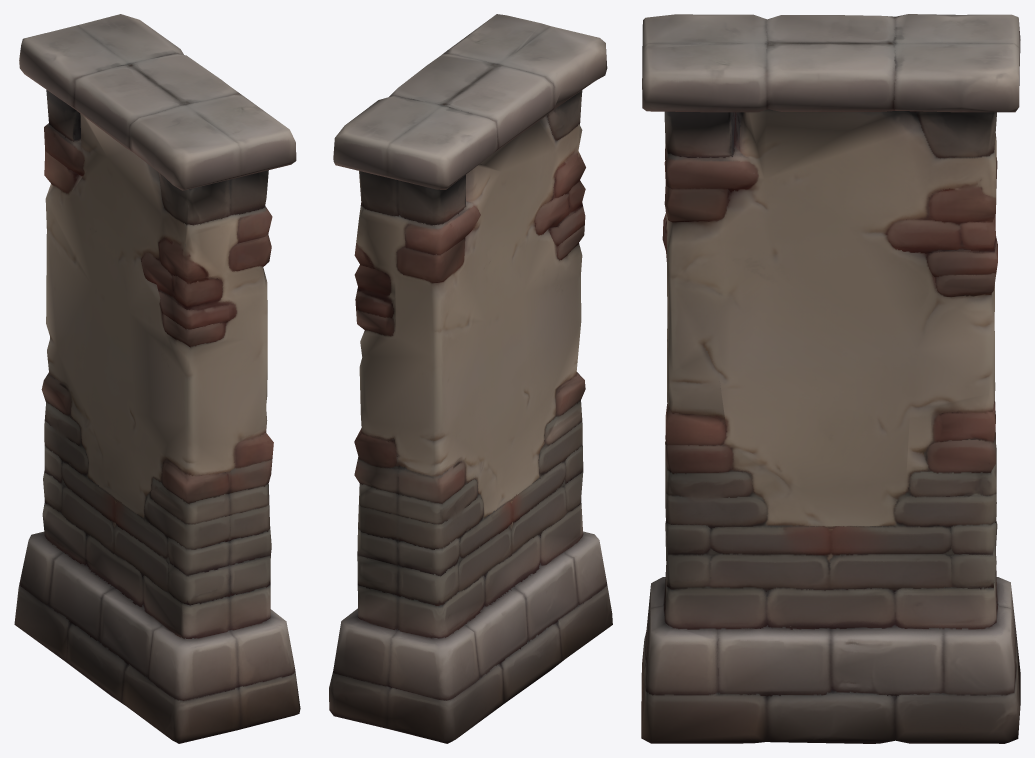
The model's file is WallTall.fbx.
3 renders of one model, left to right at view 1: azimuth 30°, elevation 25°; view 2: azimuth 150°, elevation 25°; view 3: azimuth 270°, elevation 25°, orthographic. The views are drawn at different scales.
Parts seen in each view (by area): view 1: WallTall; view 2: WallTall; view 3: WallTall.
Boxes of the visible parts, <box> form: WallTall: <box>14,14,300,743</box>; WallTall: <box>329,14,612,743</box>; WallTall: <box>641,14,1020,743</box>.
Bounding box in the file's own units: 0.2274 × 0.9951 × 0.5117.
